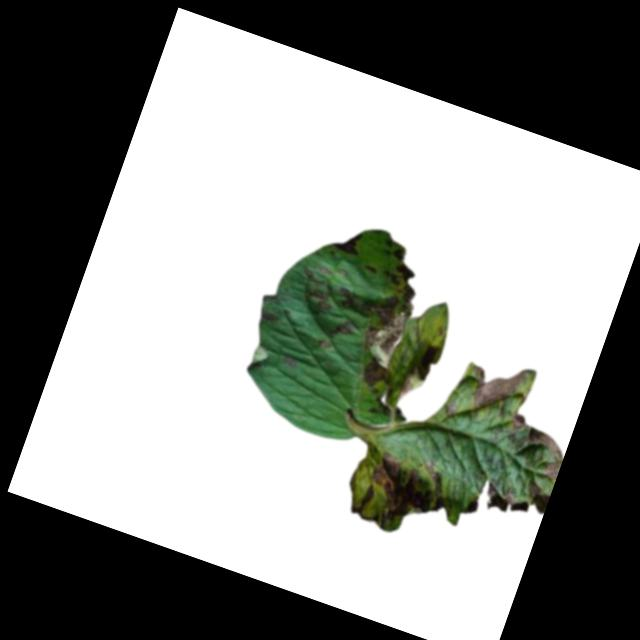Early_blight: (337, 437, 457, 547), (350, 290, 419, 394), (497, 409, 572, 481), (460, 354, 526, 425), (384, 248, 431, 302), (480, 477, 522, 516), (412, 338, 443, 385), (331, 226, 364, 255), (309, 286, 336, 314), (335, 317, 357, 337)
